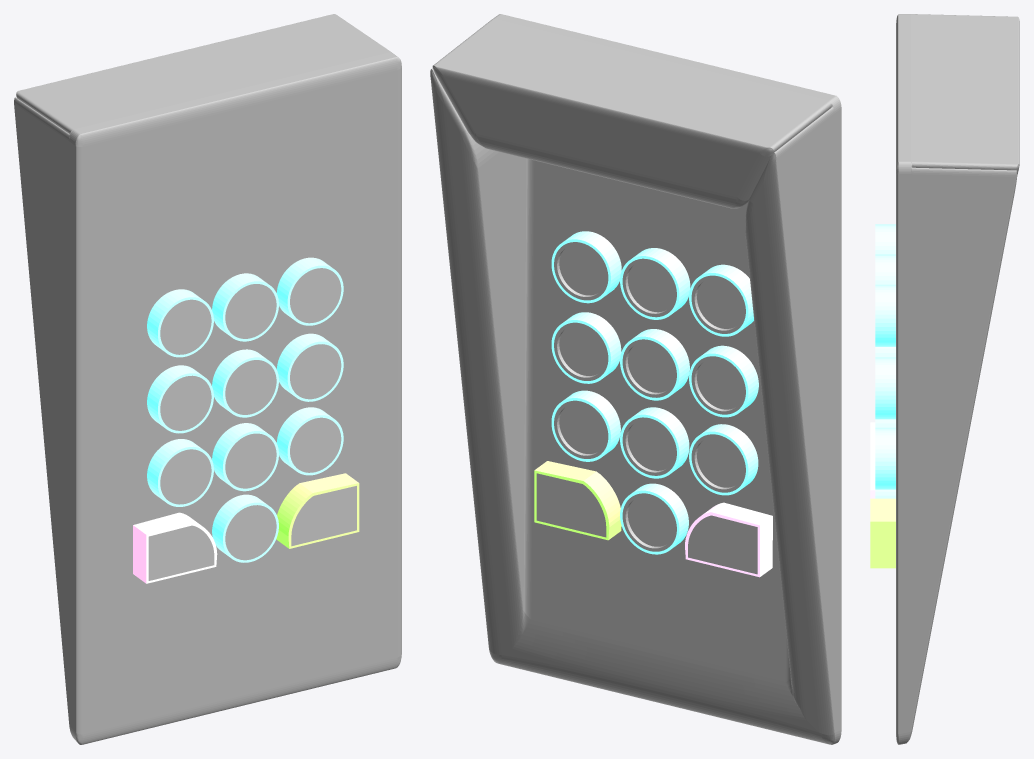
Rendered from digicode.fbx.
3 renders of one model, left to right at view 1: azimuth 30°, elevation 25°; view 2: azimuth 150°, elevation 25°; view 3: azimuth 270°, elevation 25°, orthographic. The views are drawn at different scales.
Visible parts, largest first — view 1: Cube.010, Cube.011, Cube.015, Cylinder.022, Cylinder.023, Cylinder.004, Cylinder.013, Cylinder.001, Cylinder.018, Cylinder.003, Cylinder.012, Cylinder.015 (+13 smaller); view 2: Cube.010, Cube.015, Cube.011, Cylinder.023, Cylinder.003, Cylinder.004, Cylinder.015, Cylinder.022, Cylinder.013, Cylinder.001, Cylinder.018, Cylinder.019 (+13 smaller); view 3: Cube.010, Cube.014, Cylinder.017, Cylinder.010, Cylinder.020, Cylinder.011, Cylinder.014, Cube.012.
Part boxes in pixels (box(x1,y1,x2,y2)): Cube.010: box(14, 14, 401, 744); Cube.011: box(148, 525, 214, 580); Cube.015: box(291, 486, 356, 546); Cylinder.022: box(225, 433, 276, 488); Cylinder.023: box(160, 449, 211, 504); Cylinder.004: box(225, 505, 276, 560); Cylinder.013: box(160, 299, 211, 354); Cylinder.001: box(290, 268, 341, 323); Cylinder.018: box(290, 344, 341, 399); Cylinder.003: box(160, 375, 211, 430); Cylinder.012: box(225, 284, 276, 338); Cylinder.015: box(225, 360, 276, 414); Cube.010: box(430, 14, 841, 744); Cube.015: box(536, 473, 606, 537); Cube.011: box(688, 515, 757, 574); Cylinder.023: box(691, 434, 745, 492); Cylinder.003: box(691, 356, 745, 414); Cylinder.004: box(622, 493, 676, 551); Cylinder.015: box(622, 339, 676, 397); Cylinder.022: box(622, 417, 676, 475); Cylinder.013: box(691, 275, 745, 333); Cylinder.001: box(554, 242, 608, 300); Cylinder.018: box(554, 322, 608, 380); Cylinder.019: box(554, 400, 608, 458); Cube.010: box(896, 14, 1019, 744); Cube.014: box(870, 498, 895, 568); Cylinder.017: box(875, 357, 895, 419); Cylinder.010: box(875, 285, 895, 346); Cylinder.020: box(875, 428, 895, 489); Cylinder.011: box(875, 254, 895, 284); Cylinder.014: box(875, 224, 895, 254); Cube.012: box(870, 422, 875, 498).
Bounding box in the file's own units: 200 × 358 × 82.92.
